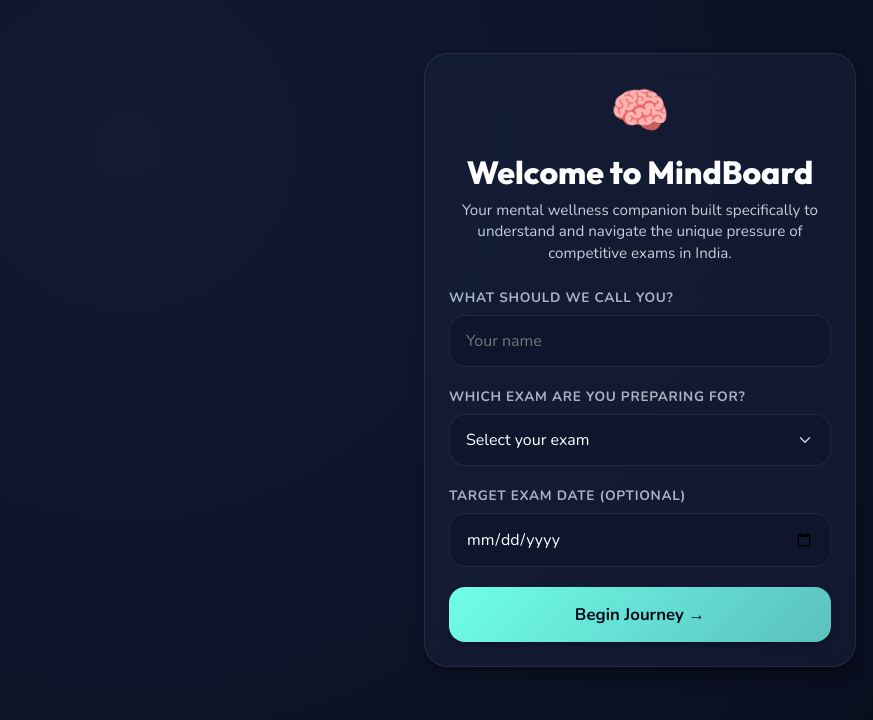
Scenario: Onboarding Component › disables inputs while submitting
In the field named "Student name": [640, 341] box [449,315,831,367], type "Priya"
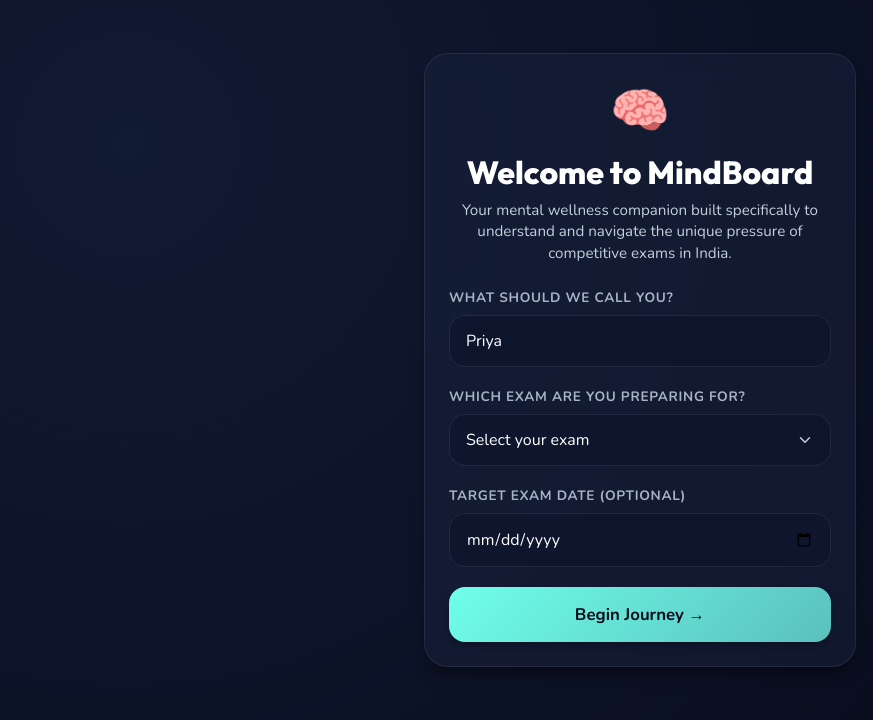
Select "NEET (Medical)" in the dropdown named "Target exam selection": [640, 440] box [449,414,831,466]
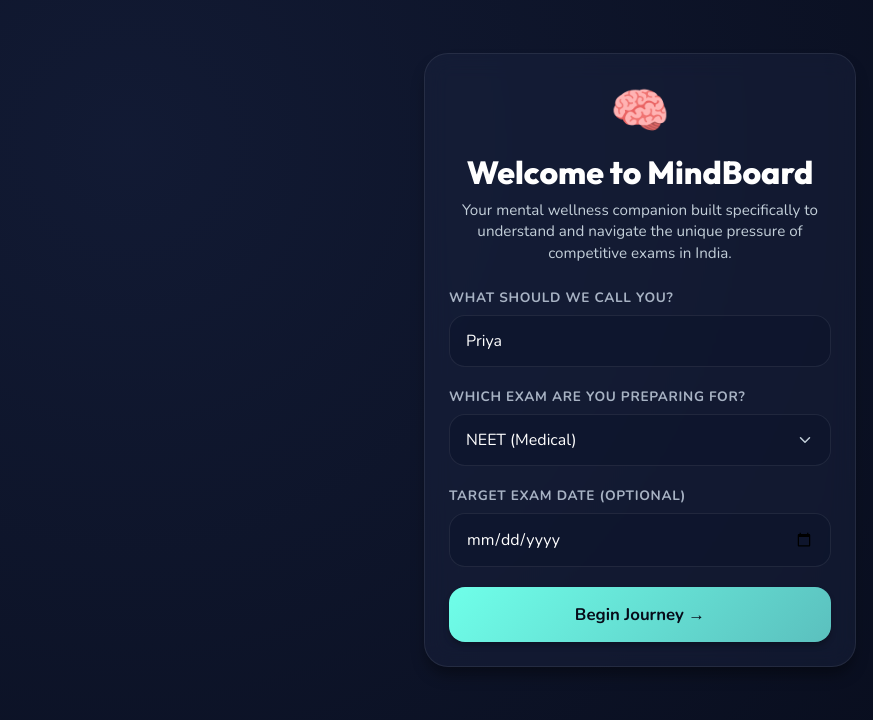
Click the button with aria-label "Start your MindBoard journey": [640, 614] box [449,587,831,642]
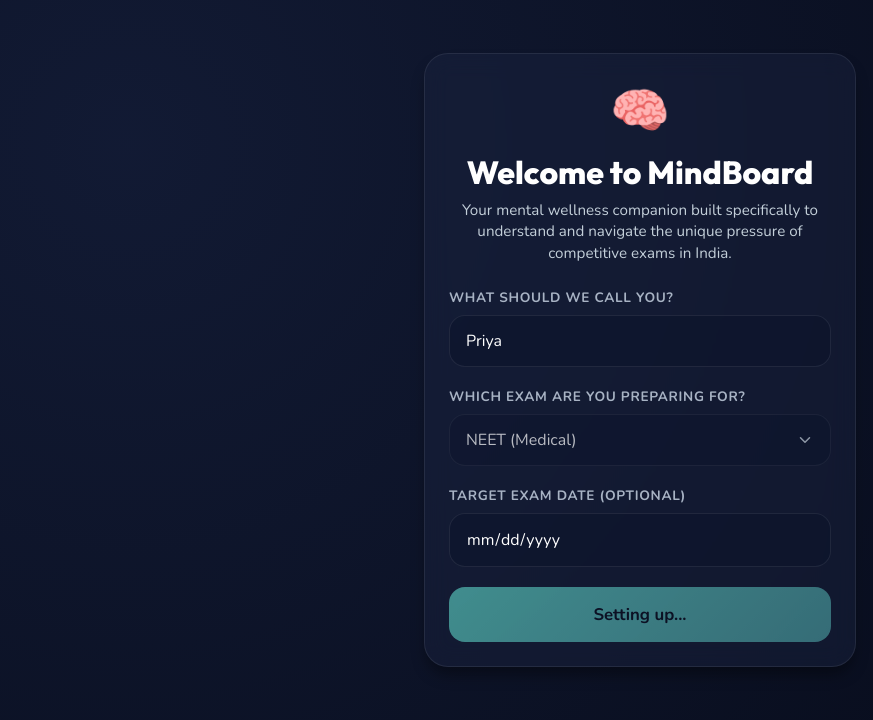
Expected: the button with aria-label "Start your MindBoard journey" reads "Setting up...", [449,587,831,642]
Expected: the dropdown named "Target exam selection" is disabled, [449,414,831,466]
Expected: the date field labelled "Target Exam Date" is disabled, [449,513,831,567]
